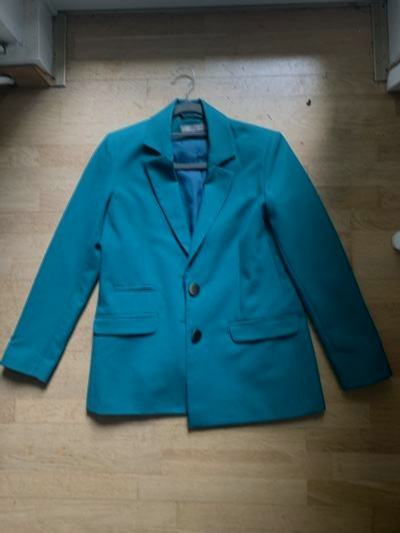Blazer: (10, 93, 394, 452)
